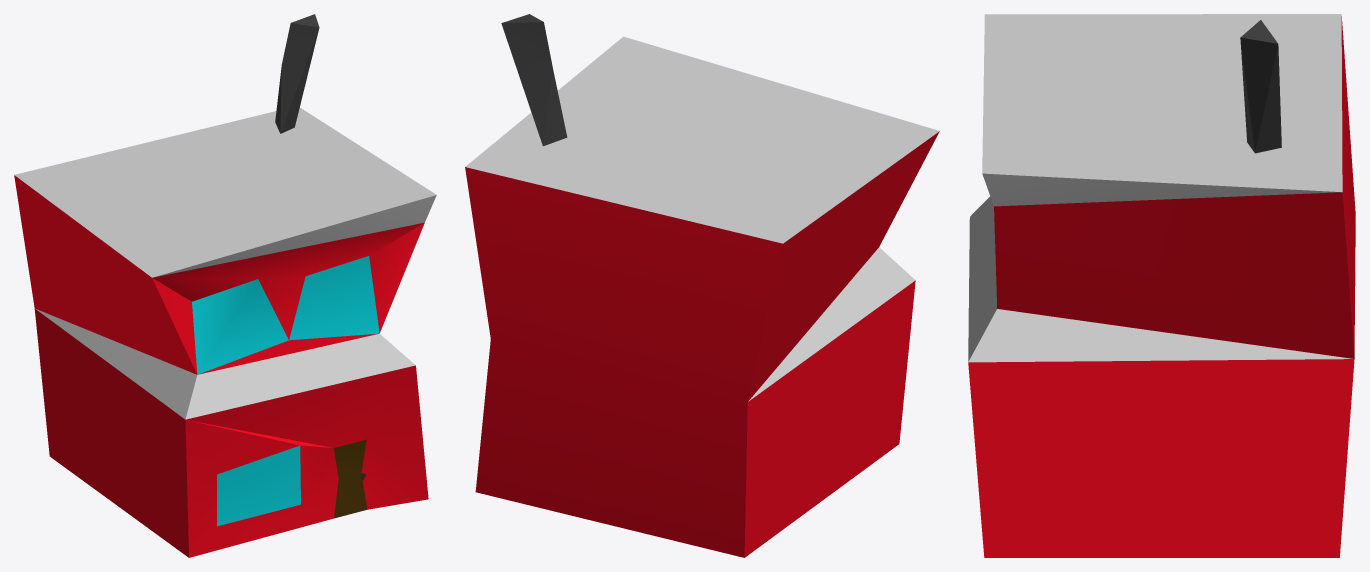
The model's file is PredioPequeno-VermelhoLOD2.fbx.
3 views of the same model, side by side, from view 1: azimuth 30°, elevation 25°; view 2: azimuth 150°, elevation 25°; view 3: azimuth 270°, elevation 25° (orthographic). The views are drawn at different scales.
Parts seen in each view (by area): view 1: Predio2AndaresLOD2; view 2: Predio2AndaresLOD2; view 3: Predio2AndaresLOD2.
Part boxes in pixels (x1,y1,x2,y2): Predio2AndaresLOD2: (14,14,436,557); Predio2AndaresLOD2: (465,14,939,557); Predio2AndaresLOD2: (968,14,1355,557).
Bounding box in the file's own units: 718 × 975 × 660.
